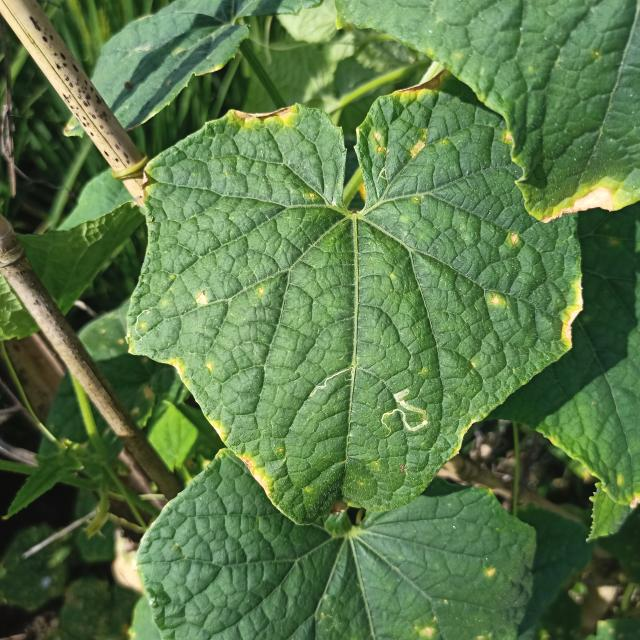disease_cucumber: (369, 82, 445, 162), (165, 348, 215, 386), (484, 295, 508, 312), (499, 129, 519, 148), (190, 292, 208, 310), (506, 230, 520, 248)
